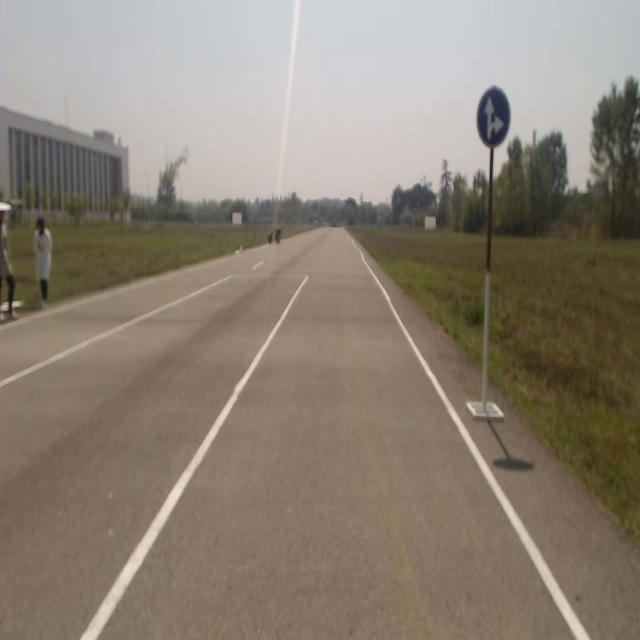ilerisag: (477, 87, 510, 145)
